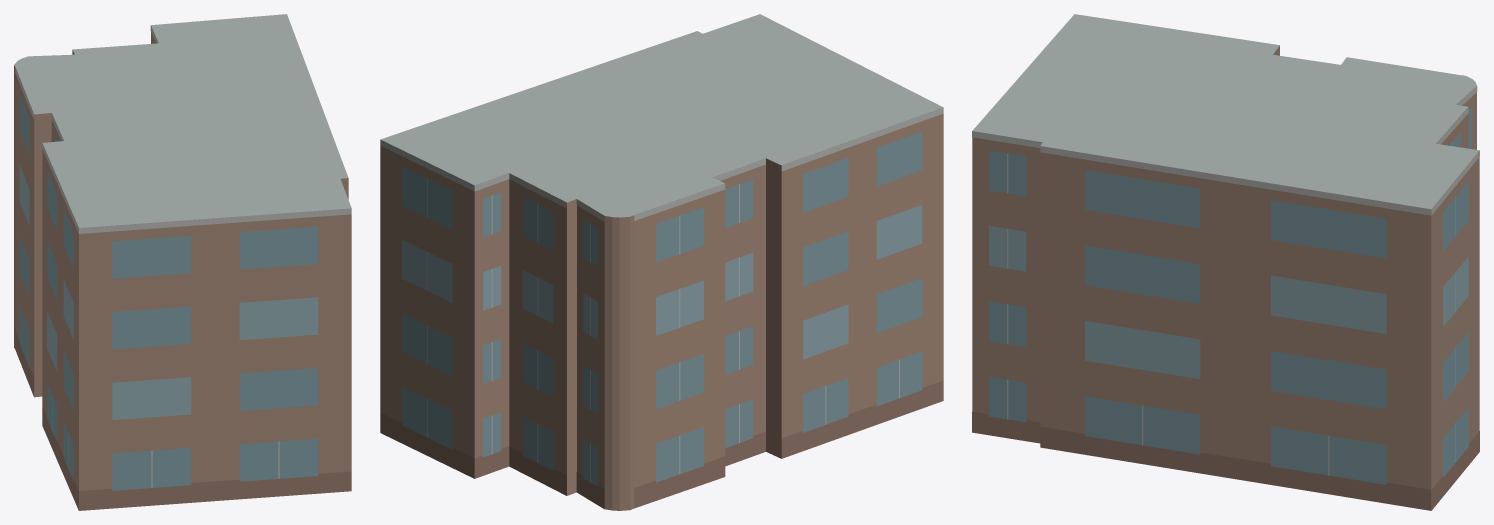
The model's file is survey-upis-32566520.glb.
3 renders of one model, left to right at view 1: azimuth 30°, elevation 25°; view 2: azimuth 150°, elevation 25°; view 3: azimuth 270°, elevation 25°, orthographic. The views are drawn at different scales.
Parts seen in each view (by area): view 1: survey-upis-32566520.tmp; view 2: survey-upis-32566520.tmp; view 3: survey-upis-32566520.tmp.
Boxes of the visible parts, x1,y1,x2,y2 form: survey-upis-32566520.tmp: (14, 14, 351, 510); survey-upis-32566520.tmp: (380, 14, 943, 510); survey-upis-32566520.tmp: (972, 14, 1479, 510).
Bounding box in the file's own units: 16.27 × 11.7 × 17.86.
